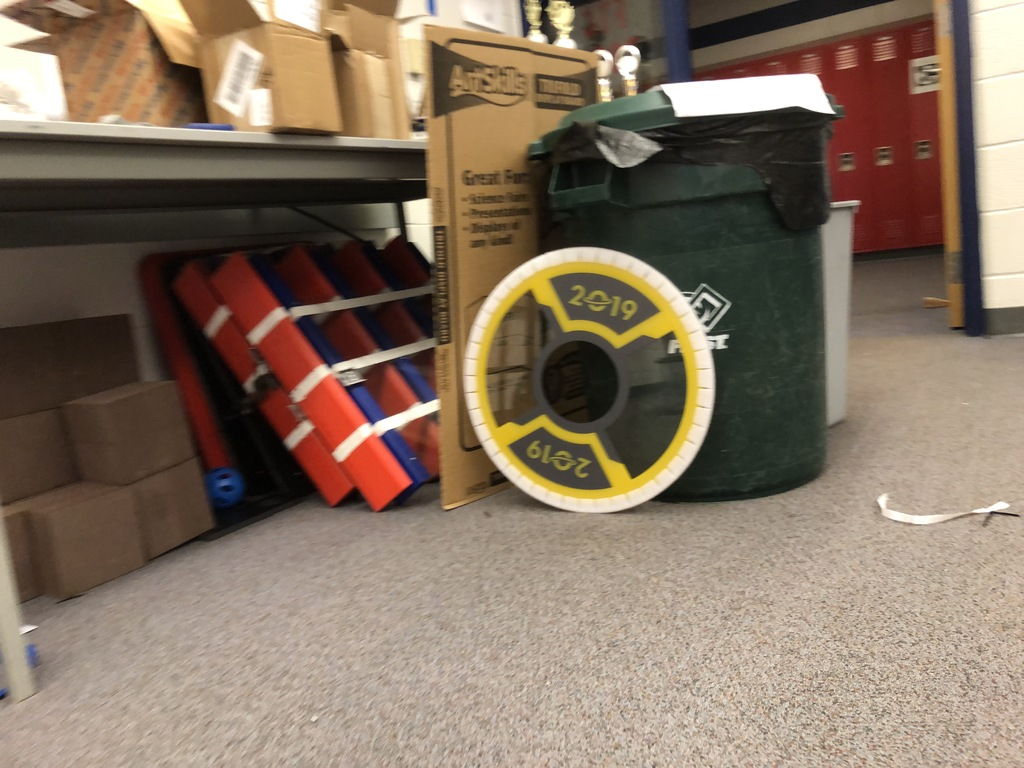hatch_panel: (452, 236, 715, 515)
